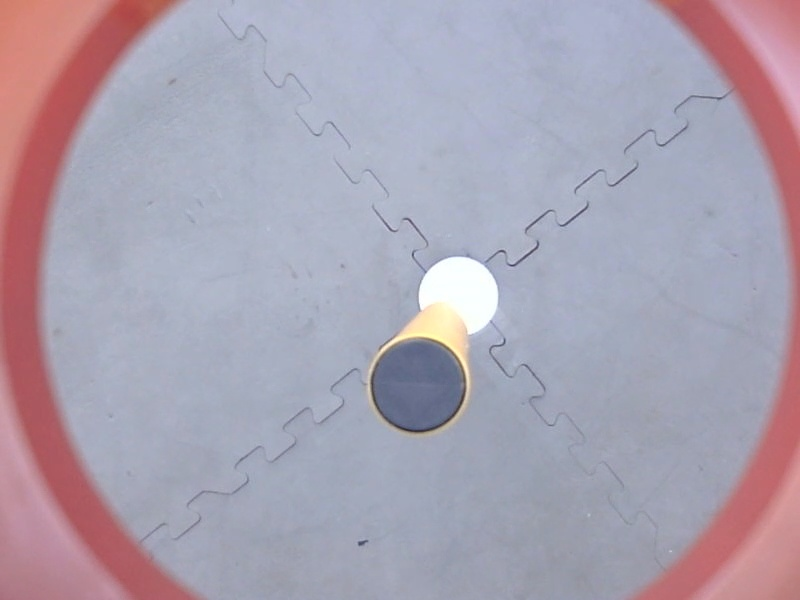tip: (359, 328, 480, 443)
